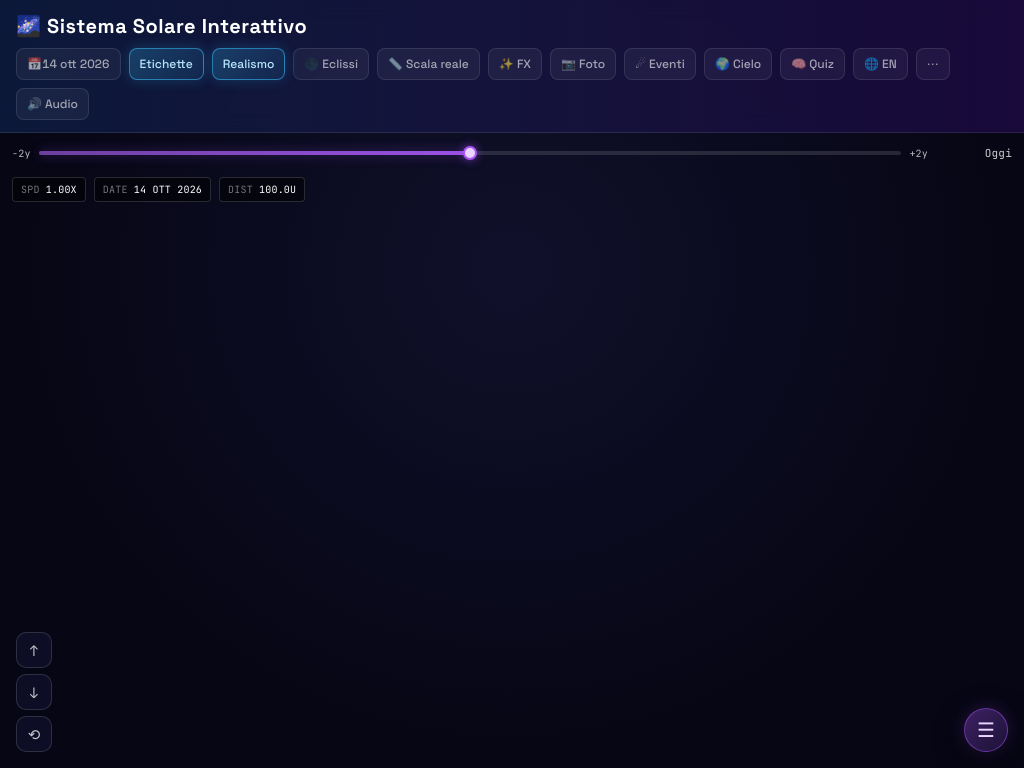
Test: App — layout mobile › apre e chiude la bottom sheet col FAB
What coordinates should you click on to do the following:
click the button with class "mobile-fab"
I would click on:
 (986, 730)
Its box is [964,708,1008,752].
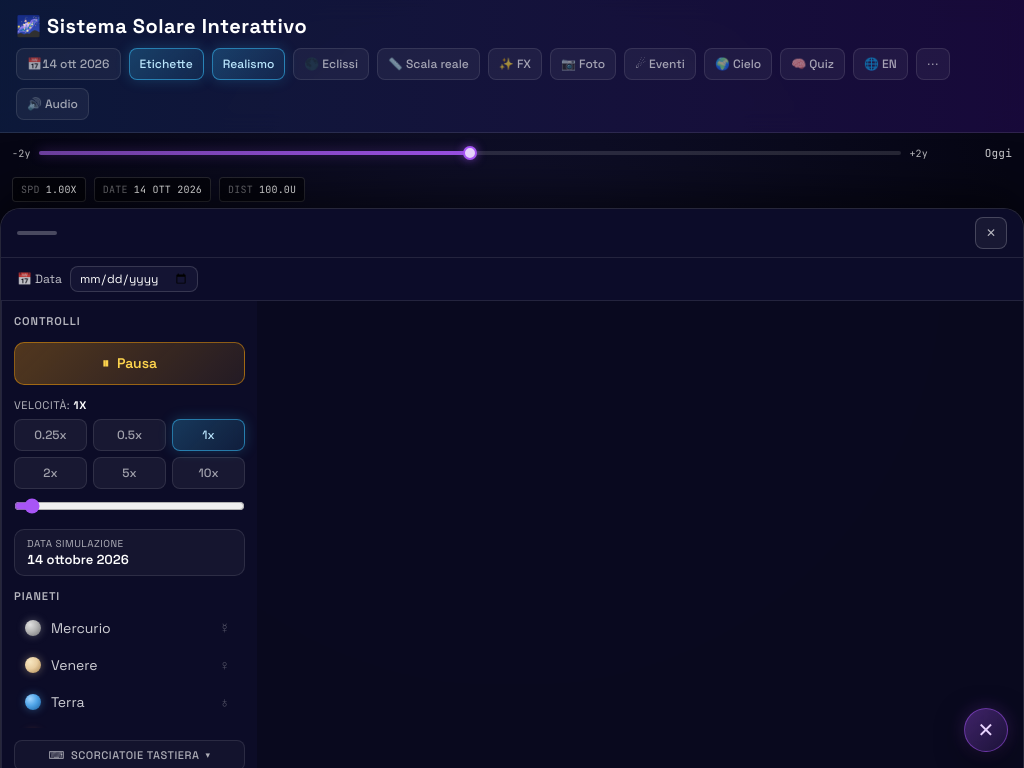
Now the button with class "mobile-fab" is expanded
What coordinates should you click on to do the following:
click the button with class "mobile-fab"
I would click on:
 (986, 730)
Its box is [964,708,1008,752].
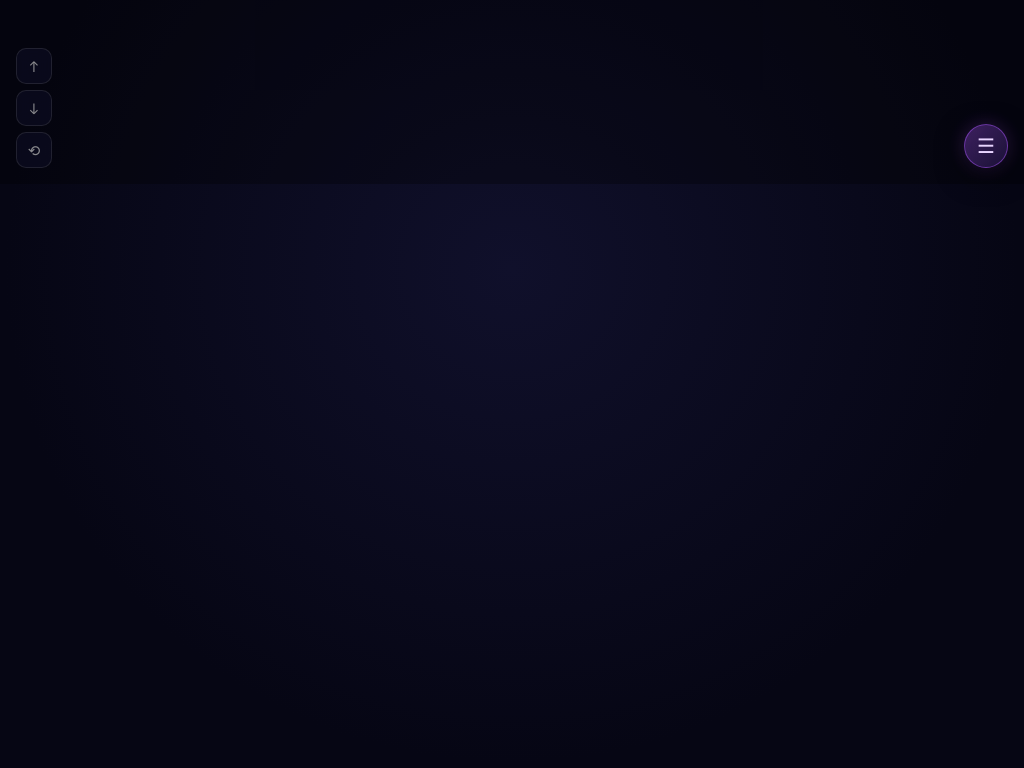
Now the button with class "mobile-fab" is collapsed, box [964,124,1008,168]
